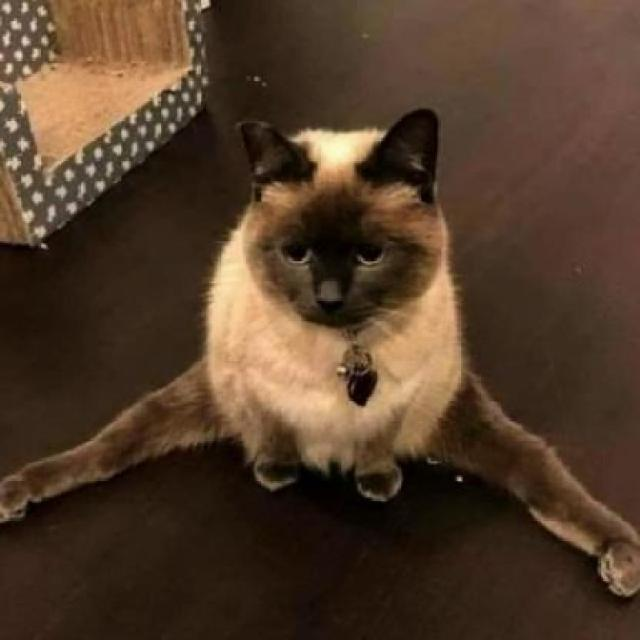cat: (99, 81, 576, 502)
